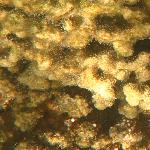dead: (6, 10, 142, 145)
